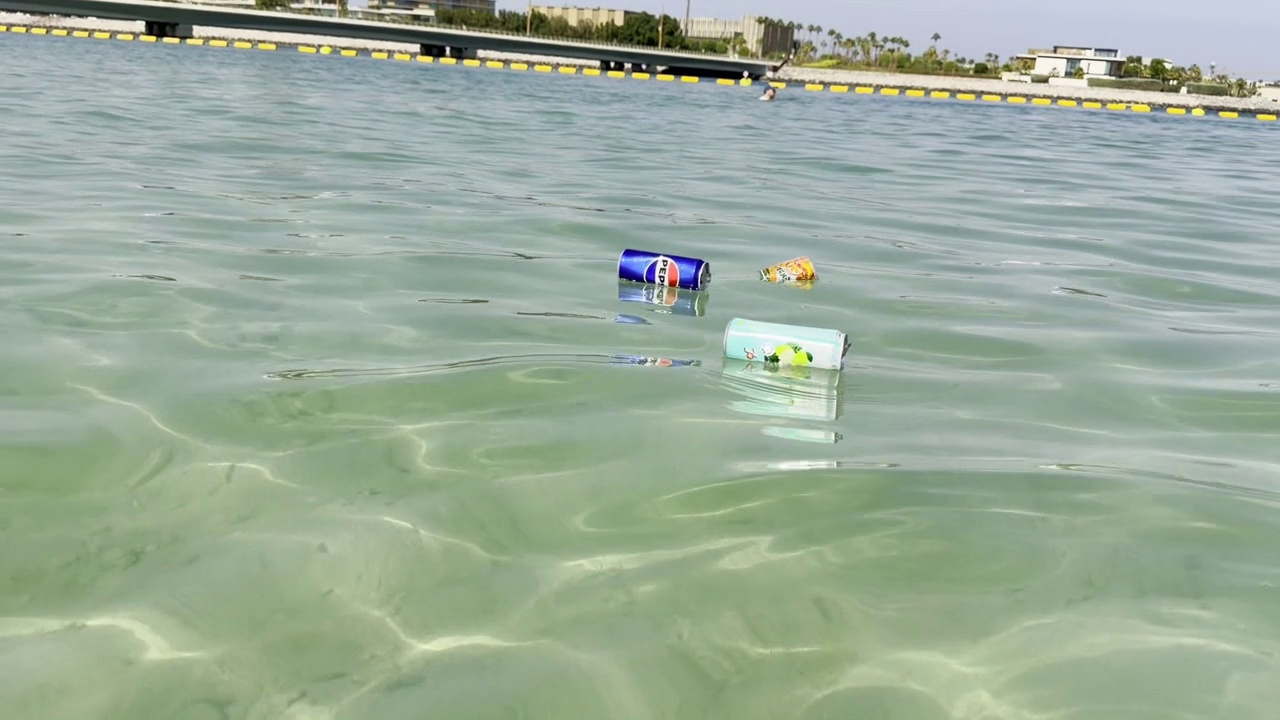debris: (721, 311, 775, 337)
